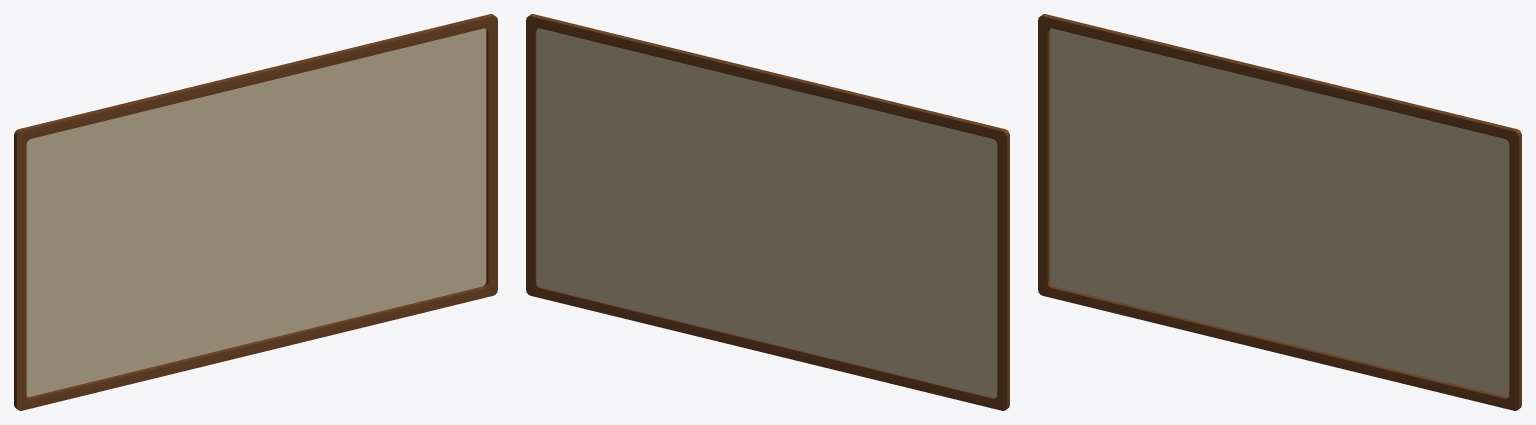
The model's file is board.fbx.
3 renders of one model, left to right at view 1: azimuth 30°, elevation 25°; view 2: azimuth 150°, elevation 25°; view 3: azimuth 330°, elevation 25°, orthographic.
Parts seen in each view (by area): view 1: Plane, board; view 2: Plane, board; view 3: Plane, board.
Boxes of the visible parts, bbox=[...] form: Plane: bbox=[26, 28, 486, 397]; board: bbox=[14, 14, 497, 410]; Plane: bbox=[536, 28, 997, 397]; board: bbox=[526, 14, 1009, 410]; Plane: bbox=[1049, 28, 1509, 397]; board: bbox=[1038, 14, 1521, 410].
Size of the model in its own units: 900 by 500 by 10.
